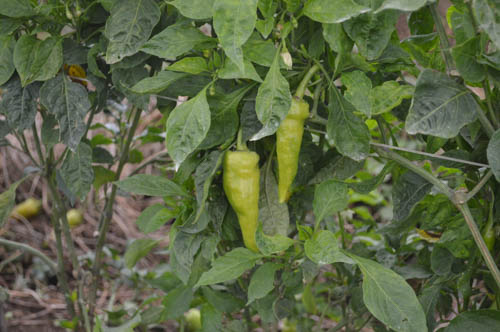ChiliPepper: (219, 149, 261, 256), (273, 99, 313, 208)
